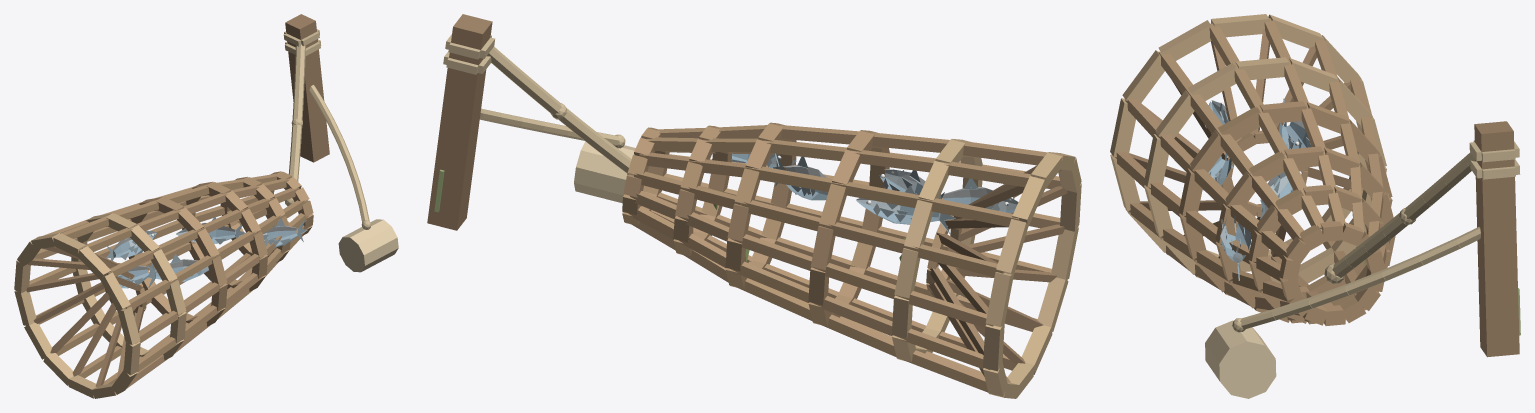
File: fish_trap.glb
3 views of the same model, side by side, from view 1: azimuth 30°, elevation 25°; view 2: azimuth 150°, elevation 25°; view 3: azimuth 270°, elevation 25° (orthographic). The views are drawn at different scales.
Visible parts, largest first — view 1: Stake, Buoy, Funnel slat 11, Funnel slat 12, Funnel slat 13, Ring 0-5, Ring 0-6, Funnel slat 0, Ring 0-4, Ring 0-12, Funnel slat 10, Ring 0-13 (+34 smaller); view 2: Stake, Buoy, Slat 1-0, Slat 2-0, Slat 13-0, Slat 0-0, Slat 3-0, Slat 12-0, Slat 4-0, Slat 1-2, Slat 1-1, Slat 13-1 (+46 smaller); view 3: Stake, Buoy, Ring 0-4, Ring 0-5, Ring 0-3, Ring 1-4, Ring 0-6, Ring 1-5, Ring 1-3, Ring 0-2, Ring 1-6, Ring 2-4 (+79 smaller).
Part boxes in pixels (bbox=[...]): Stake: bbox=[285, 14, 329, 162]; Buoy: bbox=[338, 219, 398, 272]; Funnel slat 11: bbox=[72, 303, 116, 376]; Funnel slat 12: bbox=[50, 293, 109, 353]; Funnel slat 13: bbox=[33, 282, 104, 323]; Ring 0-5: bbox=[101, 272, 130, 311]; Ring 0-6: bbox=[118, 306, 140, 344]; Funnel slat 0: bbox=[26, 273, 98, 292]; Ring 0-4: bbox=[78, 246, 111, 280]; Ring 0-12: bbox=[24, 322, 51, 359]; Funnel slat 10: bbox=[95, 315, 121, 386]; Ring 0-13: bbox=[14, 291, 36, 325]; Stake: bbox=[427, 14, 492, 230]; Buoy: bbox=[574, 141, 647, 203]; Slat 1-0: bbox=[910, 244, 1004, 276]; Slat 2-0: bbox=[924, 198, 1019, 226]; Slat 13-0: bbox=[899, 328, 989, 369]; Slat 0-0: bbox=[901, 291, 993, 327]; Slat 3-0: bbox=[942, 161, 1037, 187]; Slat 12-0: bbox=[904, 350, 995, 395]; Slat 4-0: bbox=[963, 141, 1046, 165]; Slat 1-2: bbox=[741, 200, 825, 230]; Slat 1-1: bbox=[826, 222, 910, 253]; Slat 13-1: bbox=[815, 296, 898, 337]; Stake: bbox=[1474, 121, 1519, 357]; Buoy: bbox=[1205, 320, 1276, 398]; Ring 0-4: bbox=[1158, 20, 1211, 60]; Ring 0-5: bbox=[1122, 50, 1164, 102]; Ring 0-3: bbox=[1211, 14, 1269, 37]; Ring 1-4: bbox=[1188, 63, 1236, 100]; Ring 0-6: bbox=[1110, 98, 1135, 157]; Ring 1-5: bbox=[1155, 90, 1194, 138]; Ring 1-3: bbox=[1235, 57, 1289, 79]; Ring 0-2: bbox=[1268, 14, 1323, 48]; Ring 1-6: bbox=[1144, 134, 1168, 187]; Ring 2-4: bbox=[1218, 107, 1260, 140].
Size of the model in its own units: 4.13 by 2.66 by 2.71.
